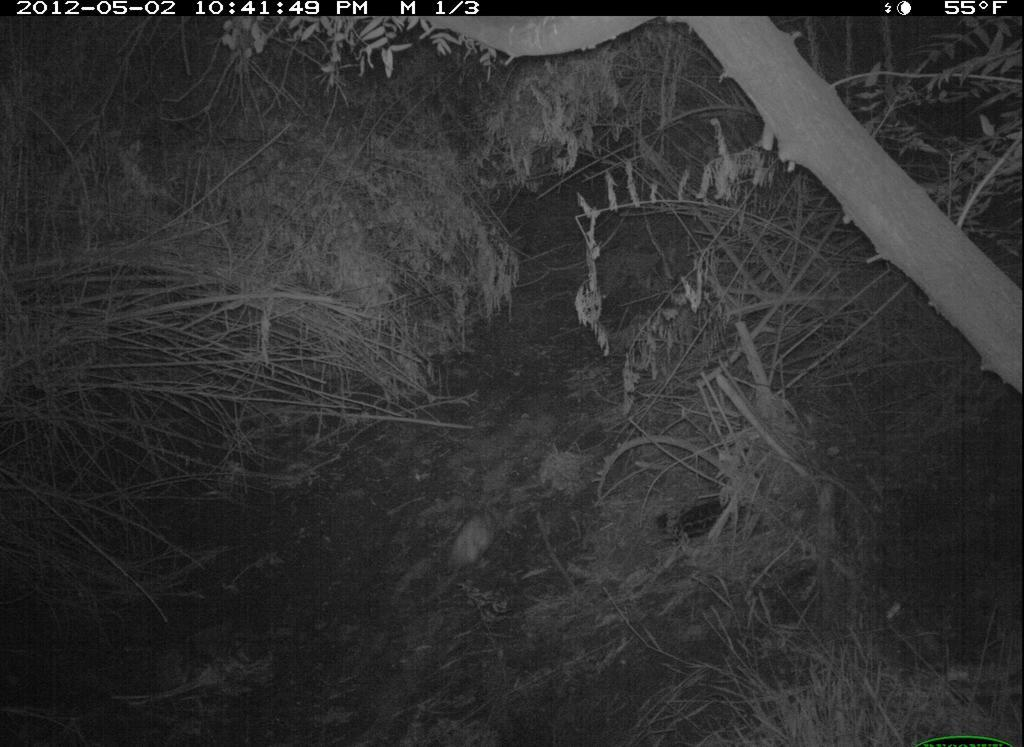opossum: (429, 489, 529, 594)
